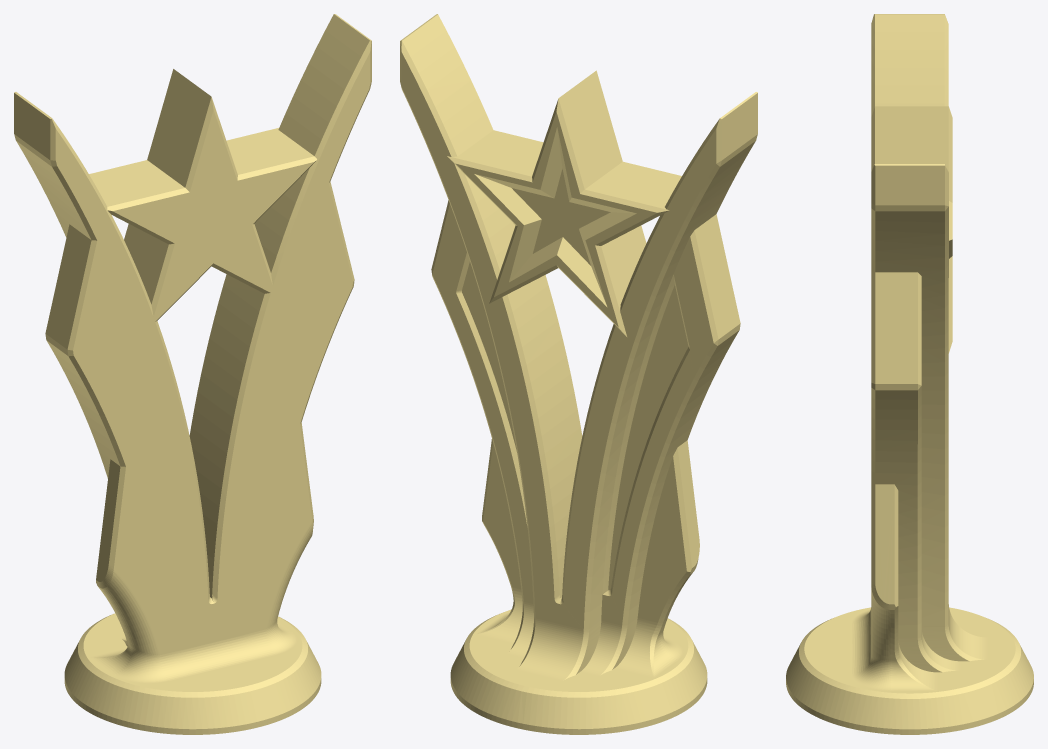
The model's file is Star Trophy.fbx.
3 views of the same model, side by side, from view 1: azimuth 30°, elevation 25°; view 2: azimuth 150°, elevation 25°; view 3: azimuth 270°, elevation 25° (orthographic). The views are drawn at different scales.
Visible parts, largest first — view 1: Origin; view 2: Origin; view 3: Origin.
Part boxes in pixels (box(x1,y1,x2,y2)): Origin: box(14, 14, 371, 734); Origin: box(400, 14, 757, 734); Origin: box(786, 14, 1033, 734).
Bounding box in the file's own units: 832 × 1518 × 575.
